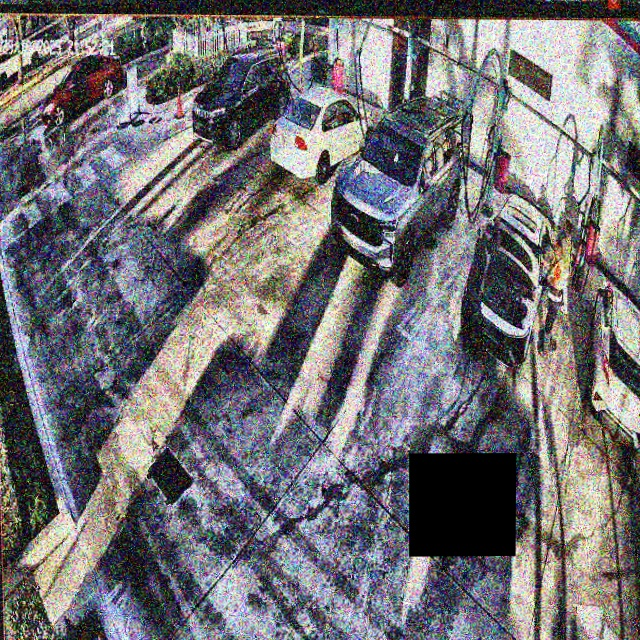Car: (332, 98, 466, 279), (461, 190, 550, 368), (193, 50, 291, 157), (270, 89, 373, 177)
